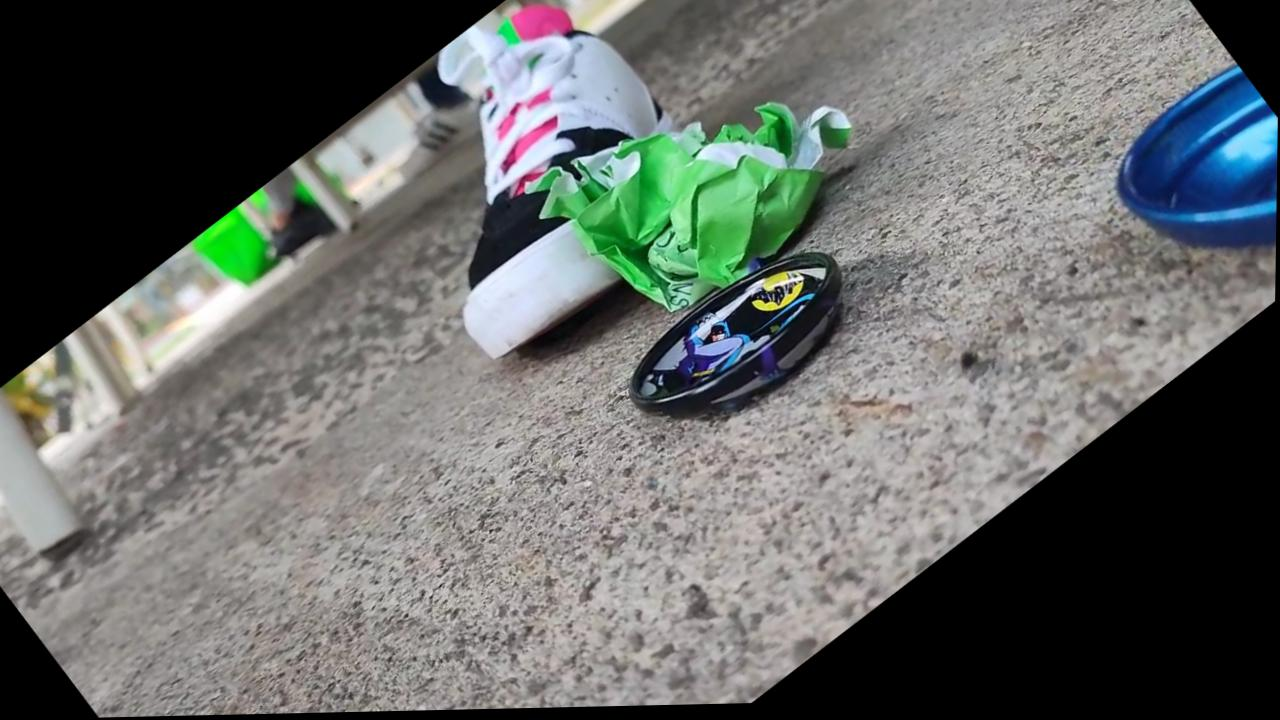paper: (502, 37, 851, 347), (438, 0, 659, 286), (0, 321, 133, 548)
